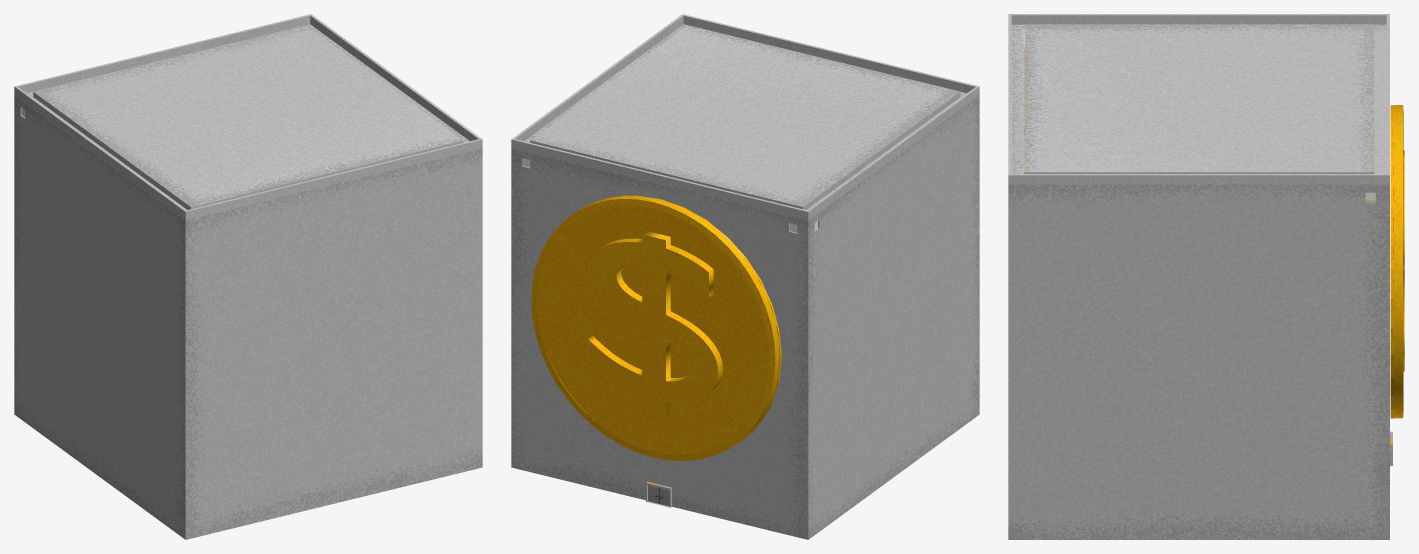
Rendered from moneybinBeta.fbx.
The picture shows the model from 3 angles, left to right: view 1: azimuth 30°, elevation 25°; view 2: azimuth 150°, elevation 25°; view 3: azimuth 270°, elevation 25°; orthographic projection. The views are drawn at different scales.
Parts seen in each view (by area): view 1: cube_bin; view 2: cube_bin; view 3: cube_bin.
Boxes of the visible parts, x1,y1,x2,y2 form: cube_bin: (14,14,482,539); cube_bin: (511,14,979,539); cube_bin: (1008,14,1404,539).
Bounding box in the file's own units: 14600 × 15404 × 15158.
1 material, 1 textured.
